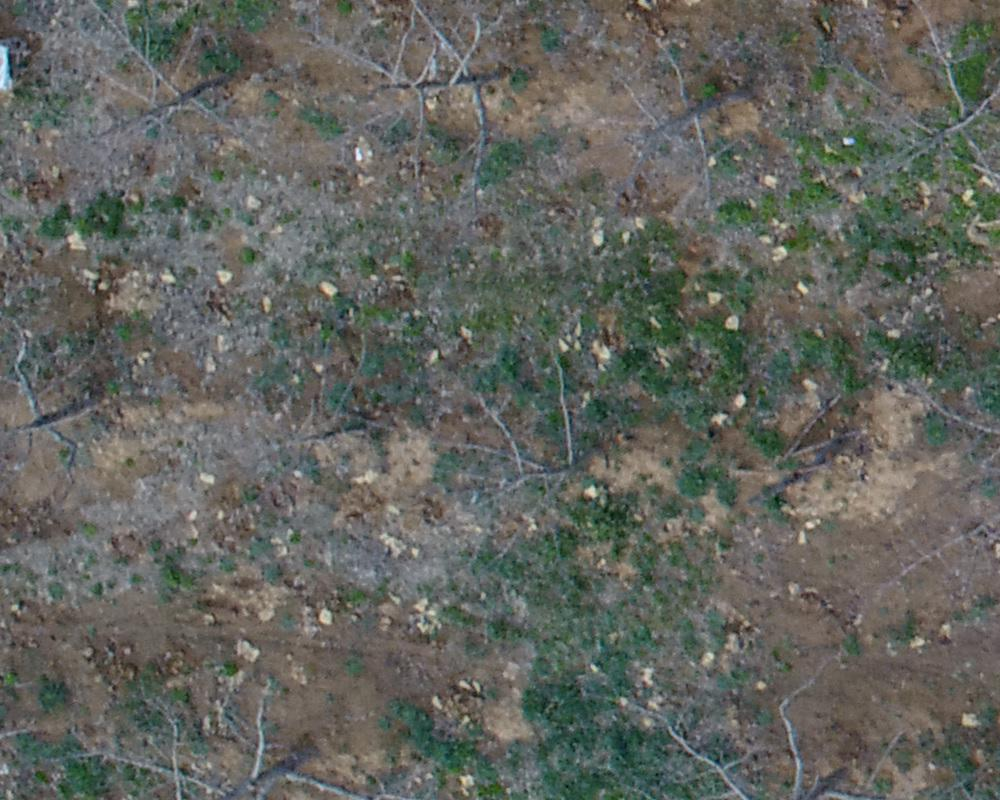apple: (319, 10, 552, 194), (402, 356, 622, 536), (819, 10, 990, 218), (575, 45, 766, 206), (63, 10, 238, 171)
